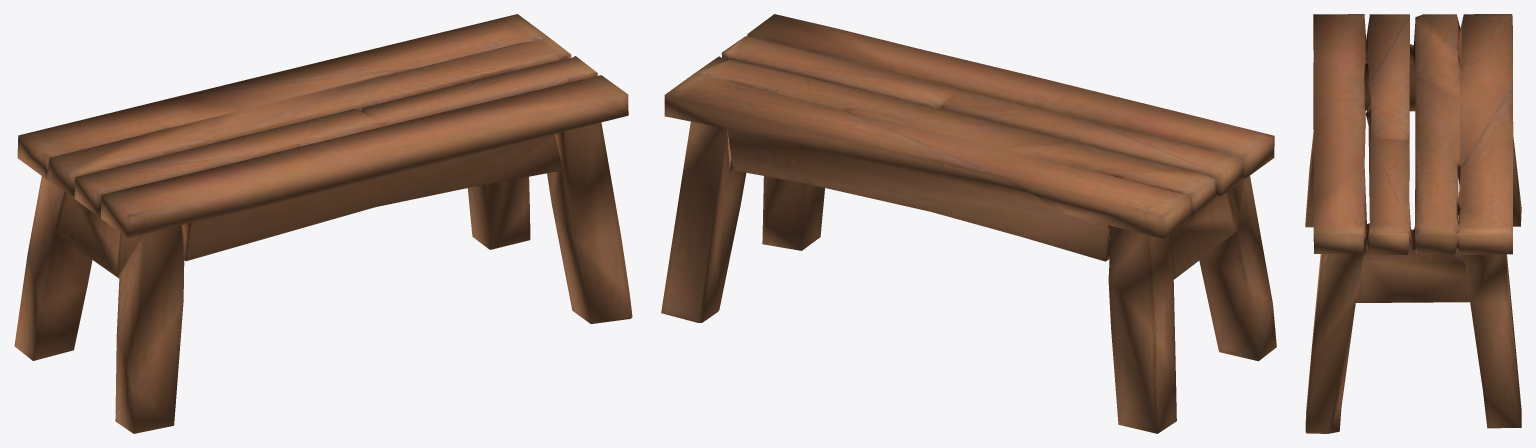
File: prop3d-pyeongsang.glb
3 renders of one model, left to right at view 1: azimuth 30°, elevation 25°; view 2: azimuth 150°, elevation 25°; view 3: azimuth 270°, elevation 25°, orthographic. The views are drawn at different scales.
Bounding box in the file's own units: 2 × 0.8477 × 0.8301.
1 material, 1 textured.
